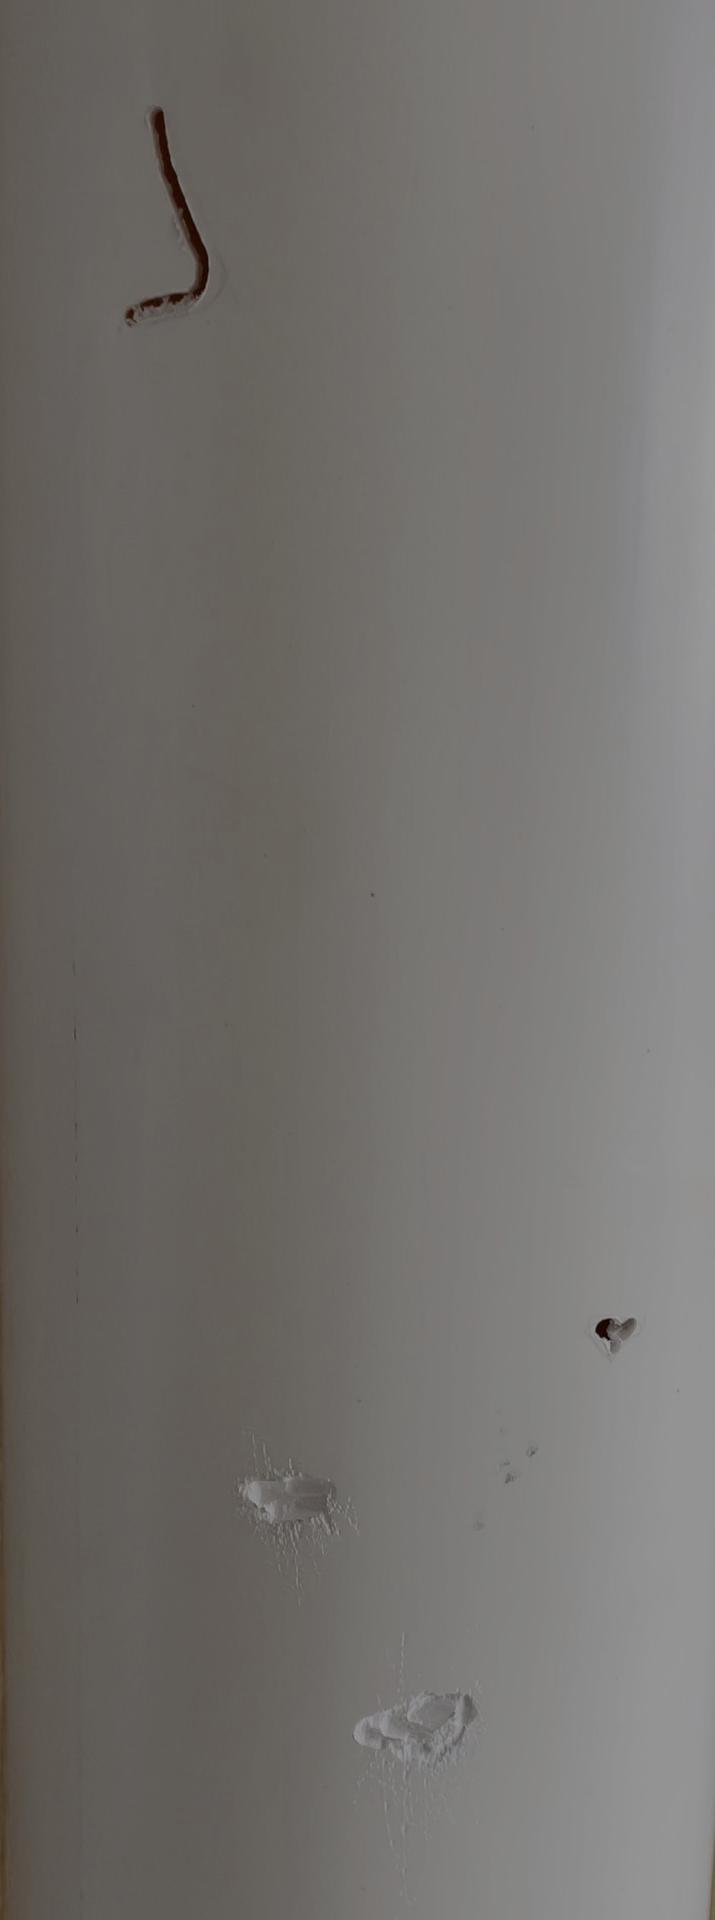fengxi: (102, 99, 241, 347)
kongdong: (580, 1299, 639, 1358)
sunshang: (353, 1671, 477, 1780), (215, 1463, 359, 1536)
